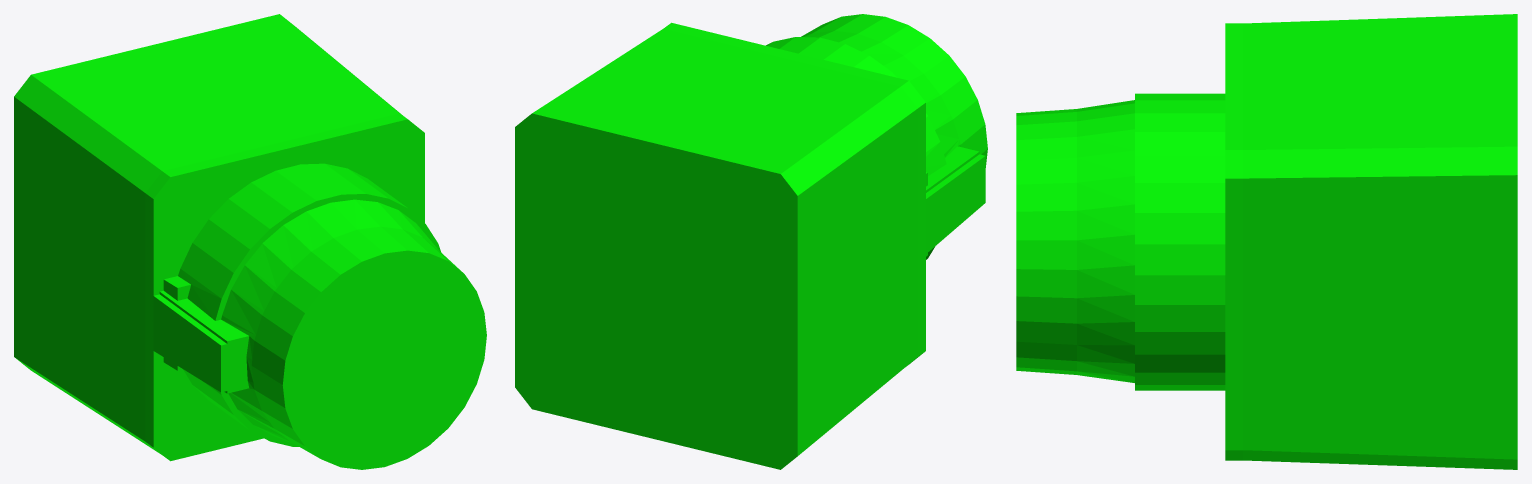
File: hokuyo_urg_04lx.dae
The picture shows the model from 3 angles, left to right: view 1: azimuth 30°, elevation 25°; view 2: azimuth 150°, elevation 25°; view 3: azimuth 270°, elevation 25°; orthographic projection. The views are drawn at different scales.
Parts seen in each view (by area): view 1: node; view 2: node; view 3: node.
Part boxes in pixels (x1,y1,x2,y2): node: (14,14,486,469); node: (515,14,987,469); node: (1016,14,1517,469).
Bounding box in the file's own units: 0.05 × 0.05 × 0.0703.
